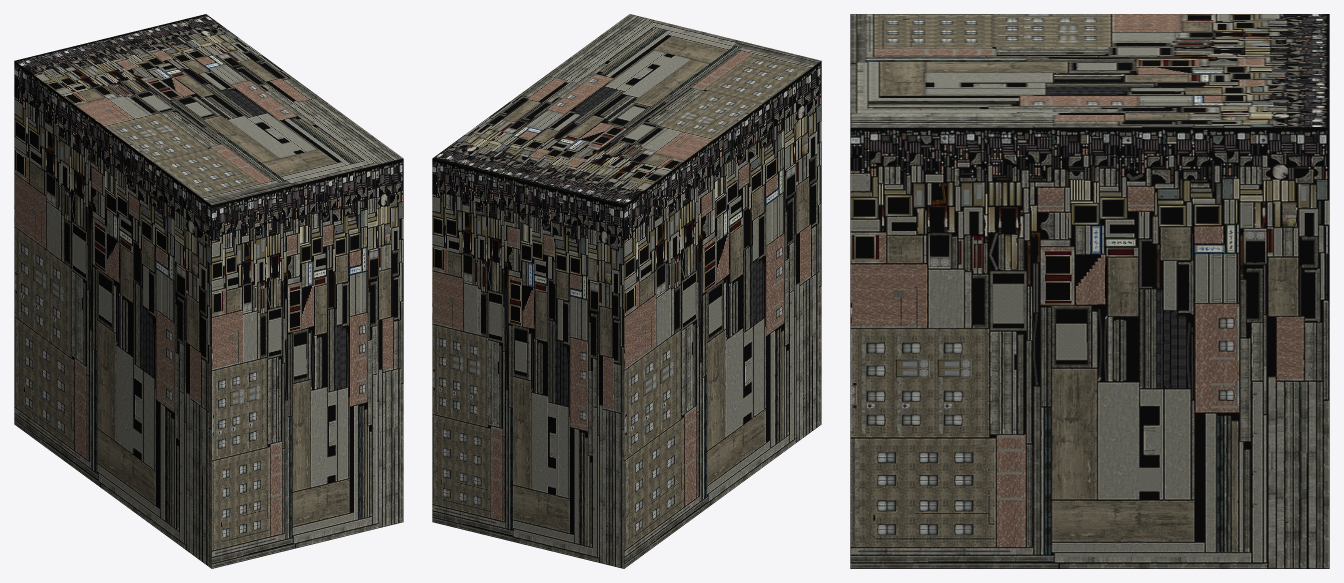
Rendered from Building_007.DAE.
The picture shows the model from 3 angles, left to right: view 1: azimuth 30°, elevation 25°; view 2: azimuth 150°, elevation 25°; view 3: azimuth 270°, elevation 25°; orthographic projection. The views are drawn at different scales.
Visible parts, largest first — view 1: bounds; view 2: bounds; view 3: bounds.
Boxes of the visible parts, <box> form: bounds: <box>14,14,403,568</box>; bounds: <box>432,14,821,568</box>; bounds: <box>850,14,1329,568</box>.
Bounding box in the file's own units: 1185 × 2113 × 2151.
